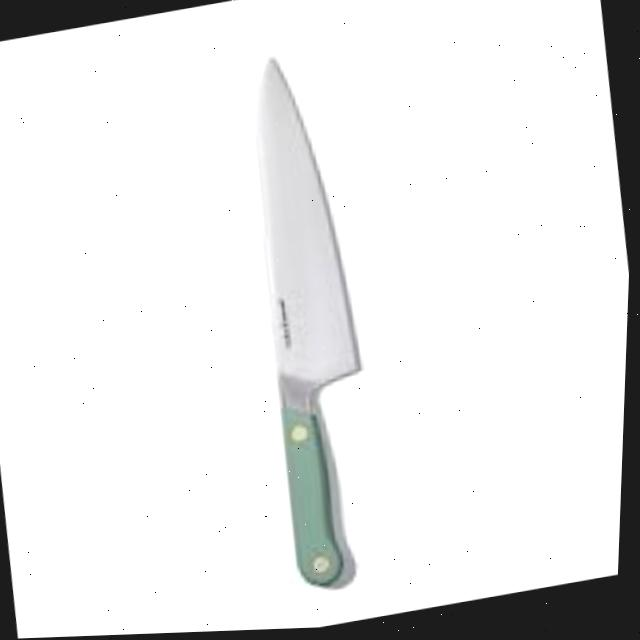knife: (227, 46, 403, 598)
